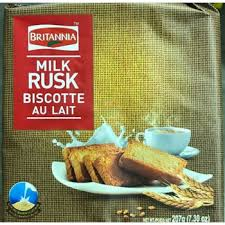Britania-toast-large: (1, 7, 220, 222)
